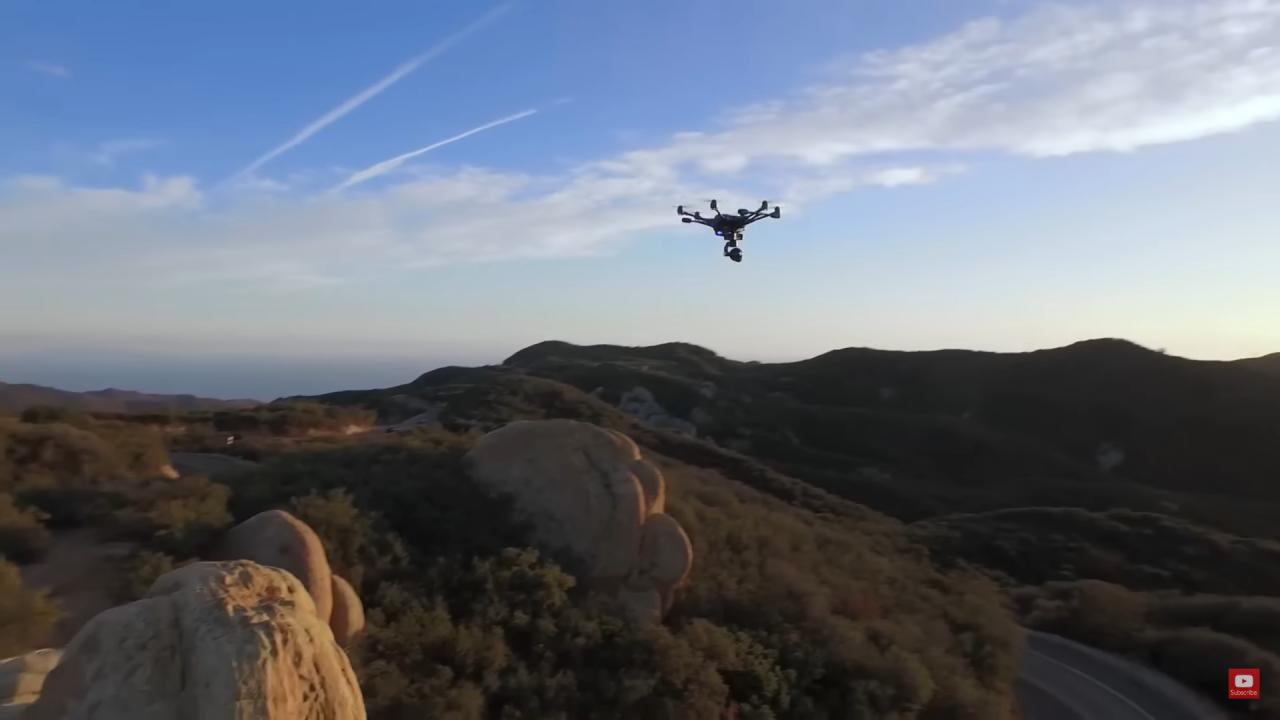Drone: (666, 192, 795, 273)
